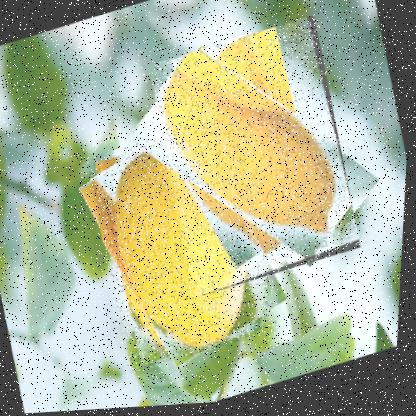lemon: (139, 14, 373, 302), (78, 112, 291, 378)
